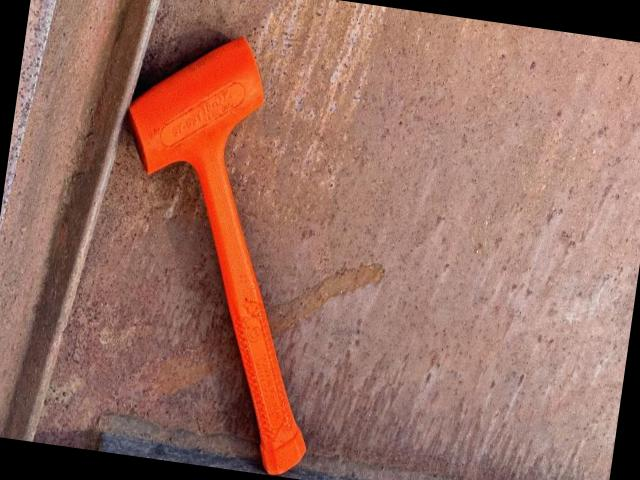hammer: (78, 23, 361, 478)
